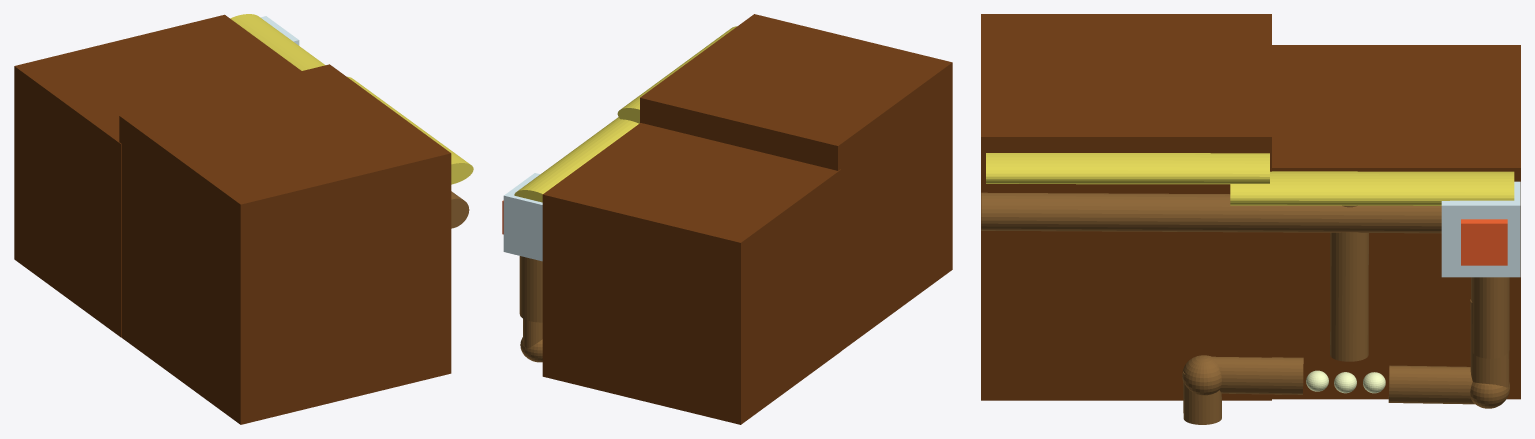
Rendered from plataformadecanoacho.fbx.
The picture shows the model from 3 angles, left to right: view 1: azimuth 30°, elevation 25°; view 2: azimuth 150°, elevation 25°; view 3: azimuth 270°, elevation 25°; orthographic projection. The views are drawn at different scales.
Visible parts, largest first — view 1: Cube.001, Cilindro.001, Cilindro; view 2: Cube.001, Cilindro.001, Cubo, Cilindro.004; view 3: Cube.001, Cilindro, Cilindro.001, Cilindro.004, Esfera UV, Cubo, Cubo.001, Esfera UV.003.
Part boxes in pixels (x1,y1,x2,y2): Cube.001: (14,14,451,424); Cilindro.001: (230,14,473,184); Cilindro: (451,191,469,228); Cube.001: (542,14,952,424); Cilindro.001: (514,26,736,202); Cubo: (503,173,542,261); Cilindro.004: (519,256,542,362); Cube.001: (981,14,1520,400); Cilindro: (981,192,1441,361); Cilindro.001: (986,153,1514,205); Cilindro.004: (1388,277,1509,408); Esfera UV: (1182,355,1303,424); Cubo: (1441,181,1520,277); Cubo.001: (1461,219,1507,265); Esfera UV.003: (1306,370,1385,393).
Size of the model in its own units: 246 by 211 by 371.
